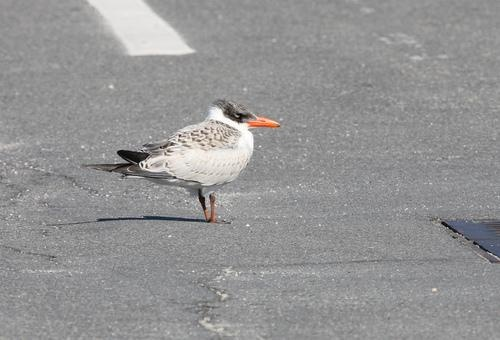bird: (87, 95, 283, 228)
